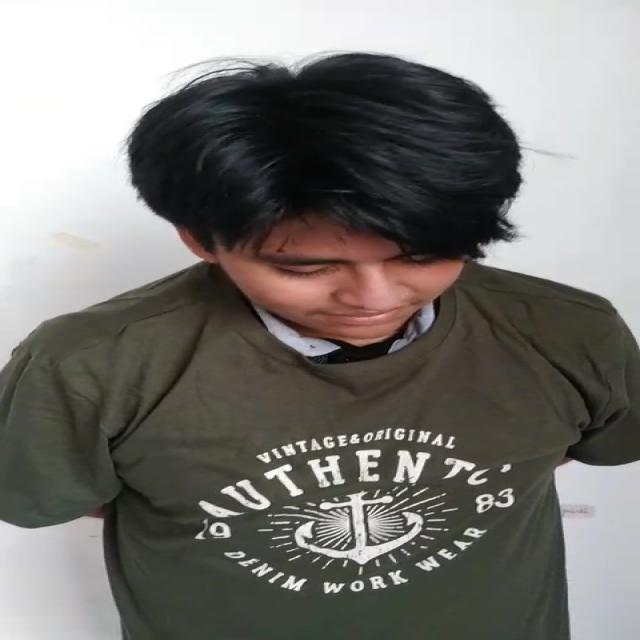9_cabeza_baja: (120, 52, 520, 340)
